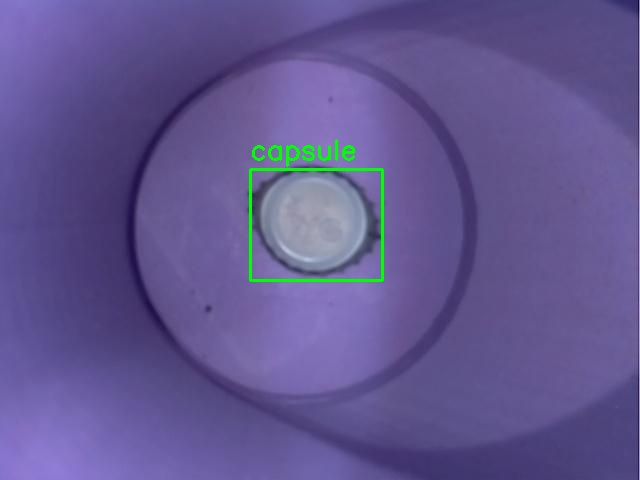capsule: (250, 169, 382, 280)
